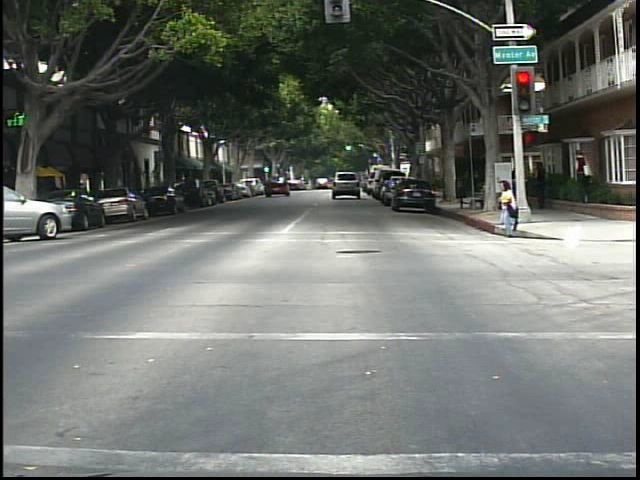person: (490, 172, 525, 240), (571, 146, 598, 205), (534, 155, 556, 212)
